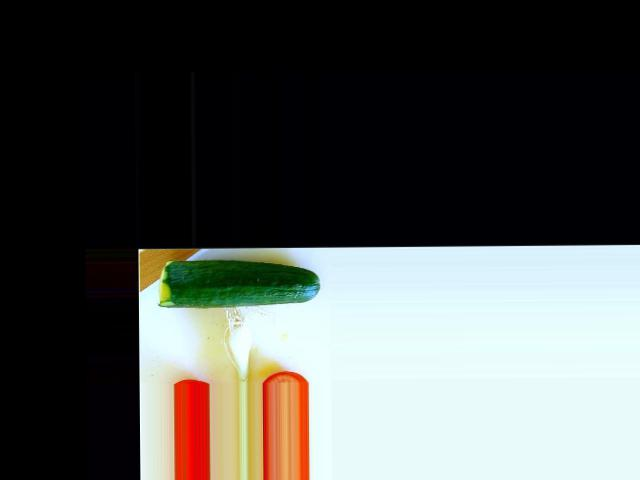cucumber: (158, 258, 321, 307)
